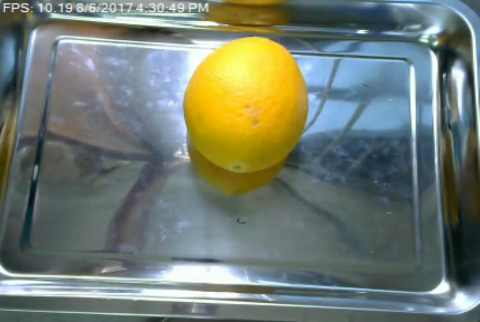Orange: (182, 35, 308, 171)
